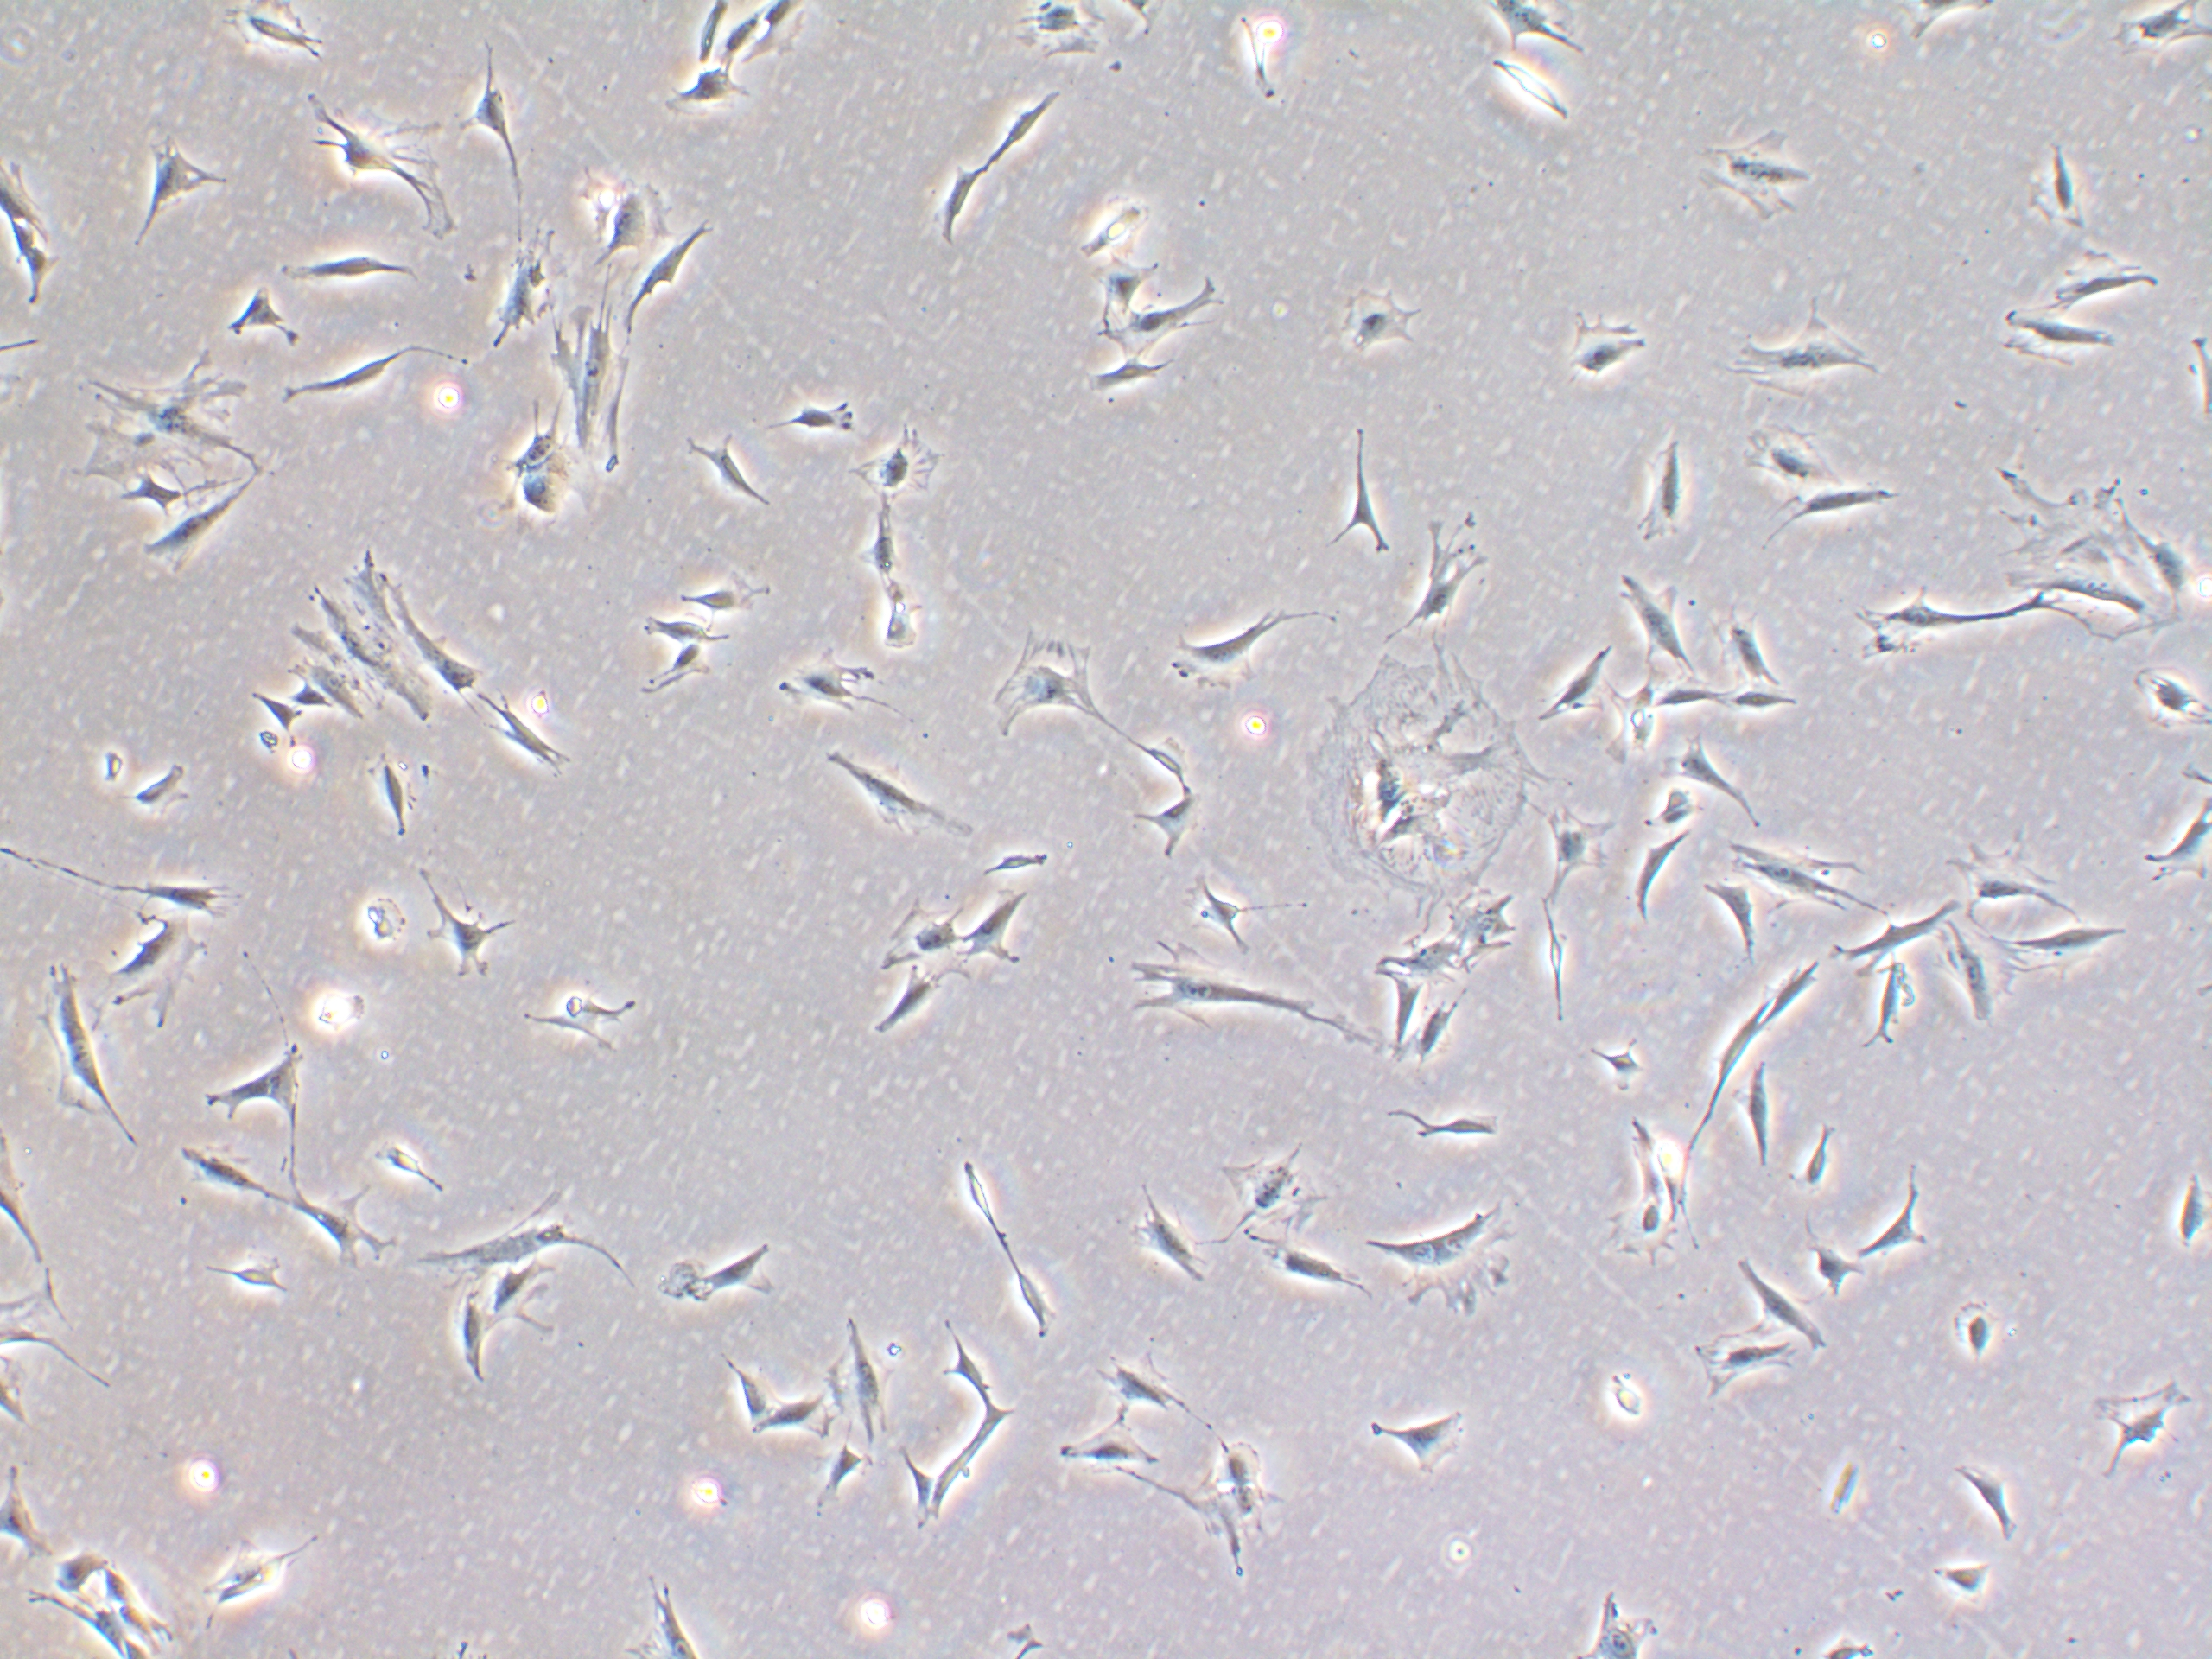small: (1944, 1284, 2010, 1377), (334, 885, 421, 953), (1585, 1368, 1670, 1429), (1918, 1554, 2005, 1610)
spread: (1303, 638, 1550, 920), (38, 331, 277, 511), (1986, 462, 2172, 666), (260, 78, 470, 256), (286, 540, 460, 753), (965, 613, 1111, 774), (1359, 1197, 1522, 1331), (1669, 117, 1829, 240), (550, 281, 639, 504), (1921, 911, 2036, 1030), (1216, 1136, 1331, 1244), (988, 0, 1111, 68)
